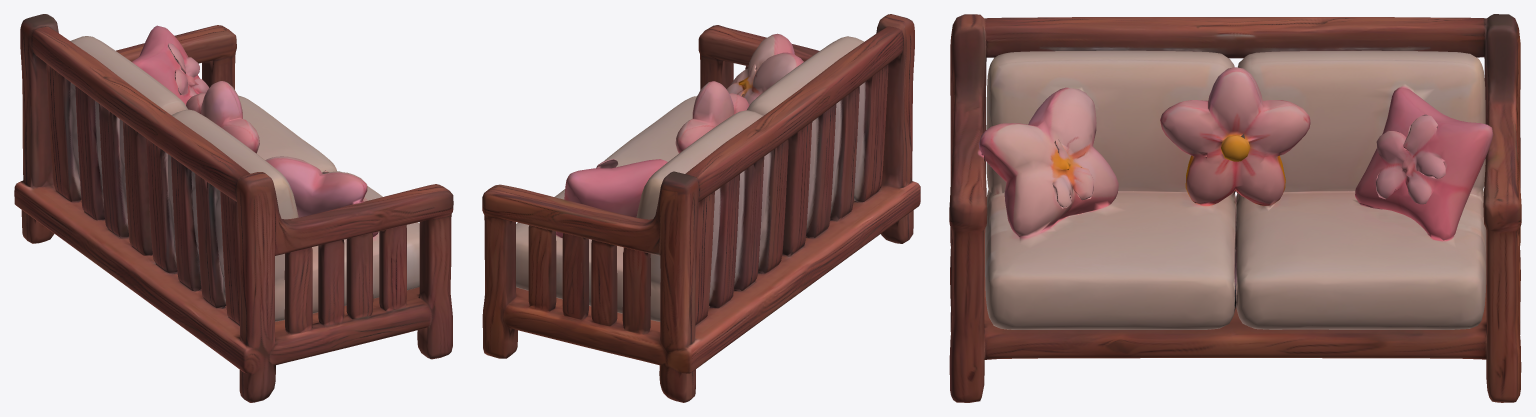
Rendered from au_furn_tatami_lounge.glb.
The picture shows the model from 3 angles, left to right: view 1: azimuth 30°, elevation 25°; view 2: azimuth 150°, elevation 25°; view 3: azimuth 270°, elevation 25°; orthographic projection. The views are drawn at different scales.
Parts seen in each view (by area): view 1: tripo_node_904ec933-cf10-48ef-98e1-8964f4b3248e; view 2: tripo_node_904ec933-cf10-48ef-98e1-8964f4b3248e; view 3: tripo_node_904ec933-cf10-48ef-98e1-8964f4b3248e.
Part boxes in pixels (box(x1,y1,x2,y2)): tripo_node_904ec933-cf10-48ef-98e1-8964f4b3248e: box(14, 14, 453, 402); tripo_node_904ec933-cf10-48ef-98e1-8964f4b3248e: box(482, 14, 920, 402); tripo_node_904ec933-cf10-48ef-98e1-8964f4b3248e: box(949, 14, 1521, 402).
Bounding box in the file's own units: 0.8365 × 0.82 × 1.56.
Materials: 1 (1 with a texture image).
